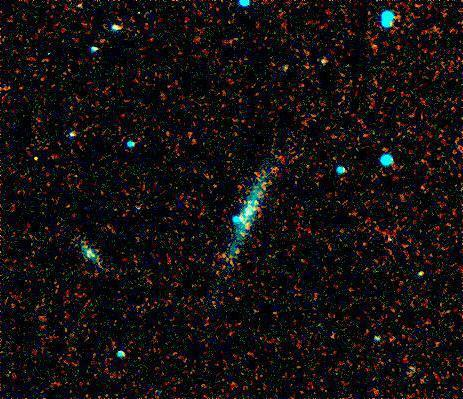star: (309, 43, 339, 73)
